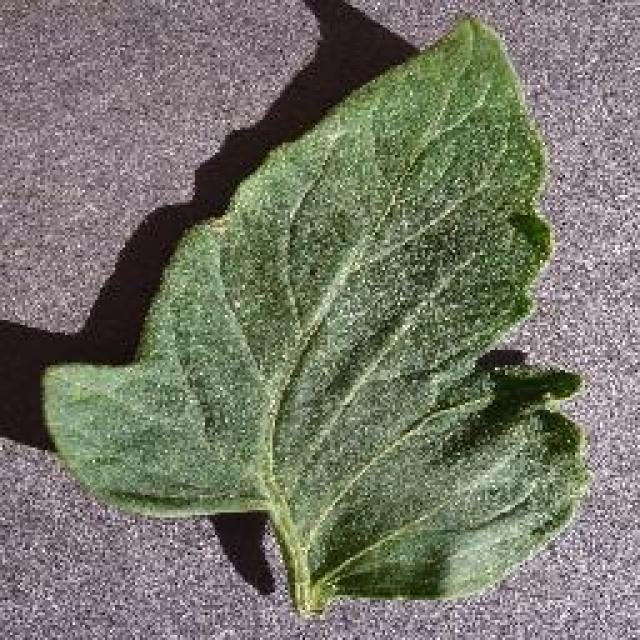Tomato_Healthy: (21, 18, 588, 598)
